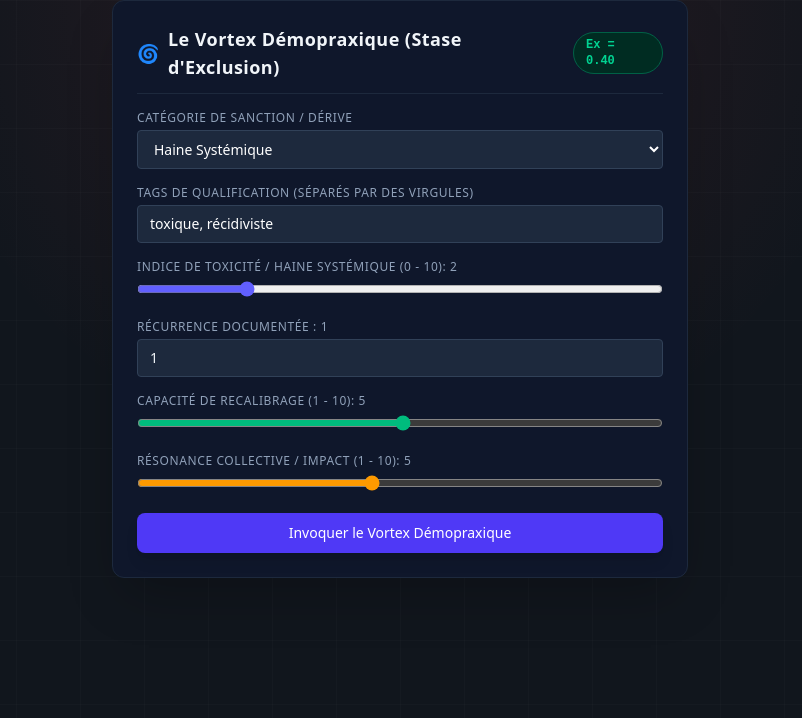
Test: UI Component : DemopraxyPanel › 🟢 doit soumettre l'évaluation avec la catégorie et les tags sélectionnés et afficher le résultat
Submit the form, box [137,110,663,553]
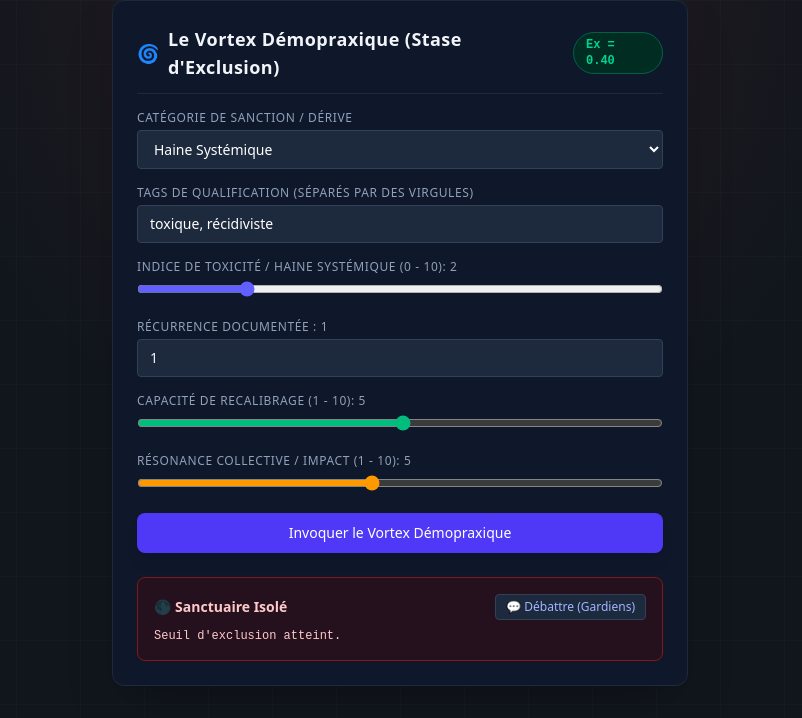
Result: the text "🌑 Sanctuaire Isolé" is shown at [154,597,287,617]
Result: the button "💬 Débattre (Gardiens)" is shown
Click the button "💬 Débattre (Gardiens)".
click(571, 607)  # box [495,594,646,620]
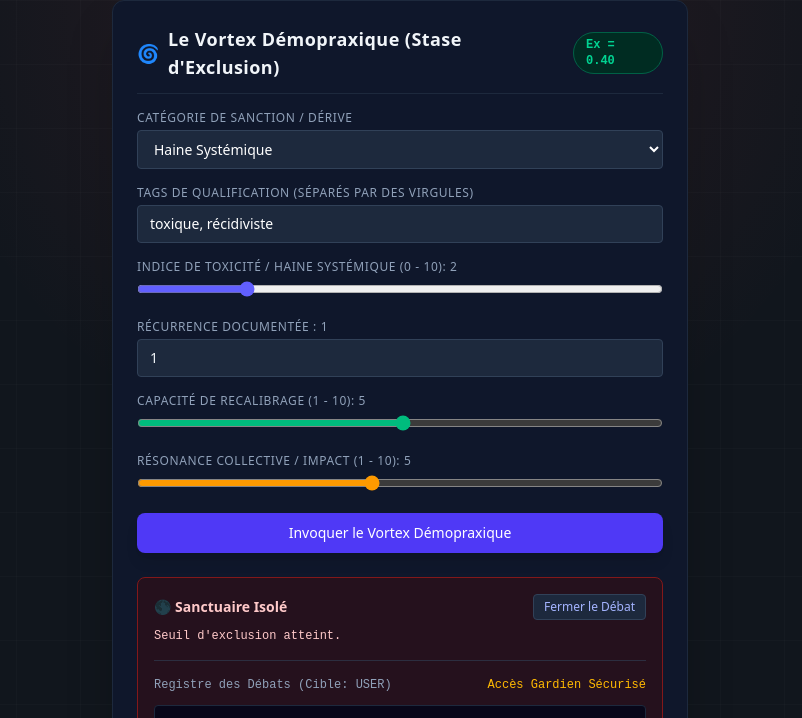
Result: the text "Registre des Débats (Cible: USER)" is shown at [154,677,392,693]
